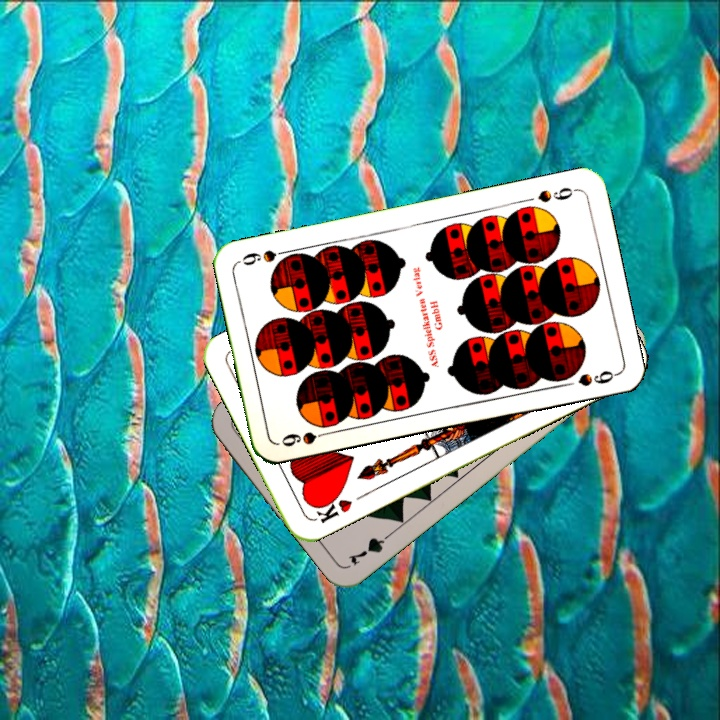G7: (344, 526, 397, 568)
HK: (309, 489, 355, 526)
S9: (277, 427, 335, 449), (533, 183, 580, 205)
